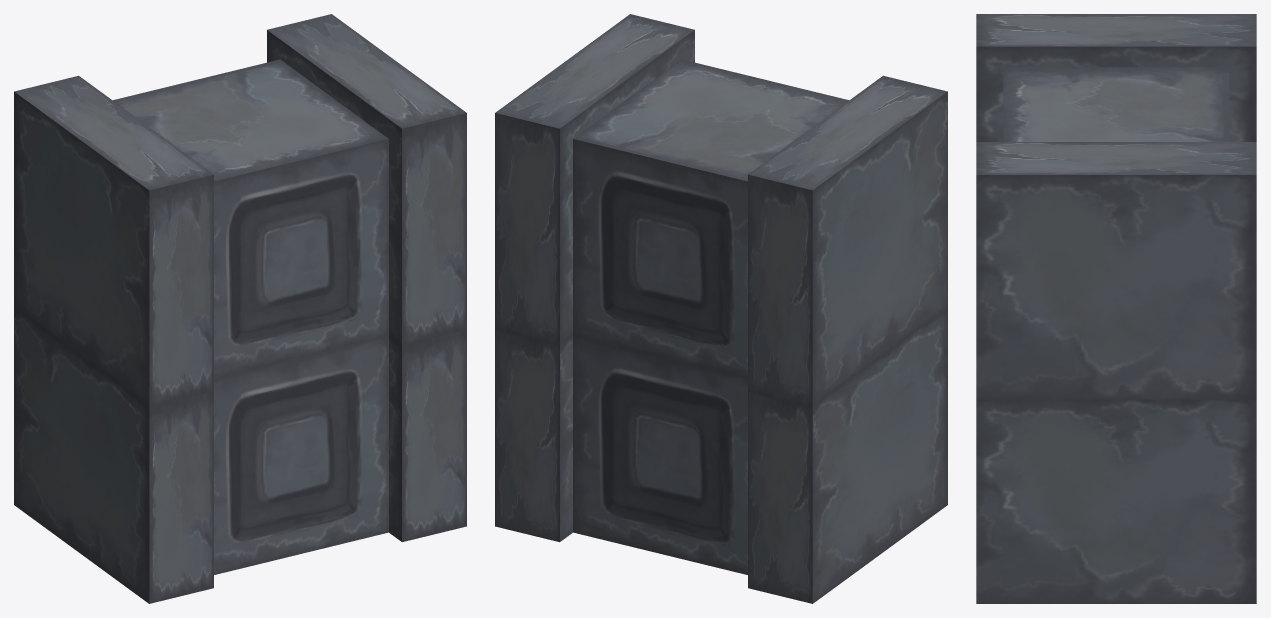
The model's file is Castle Deco Pilar 2.fbx.
3 renders of one model, left to right at view 1: azimuth 30°, elevation 25°; view 2: azimuth 150°, elevation 25°; view 3: azimuth 270°, elevation 25°, orthographic. The views are drawn at different scales.
Parts seen in each view (by area): view 1: Castle Deco Pilar 2; view 2: Castle Deco Pilar 2; view 3: Castle Deco Pilar 2.
Part boxes in pixels (x1,y1,x2,y2): Castle Deco Pilar 2: (14, 14, 466, 603); Castle Deco Pilar 2: (495, 14, 947, 603); Castle Deco Pilar 2: (976, 14, 1256, 603).
Bounding box in the file's own units: 1.27 × 1.58 × 0.9335.
